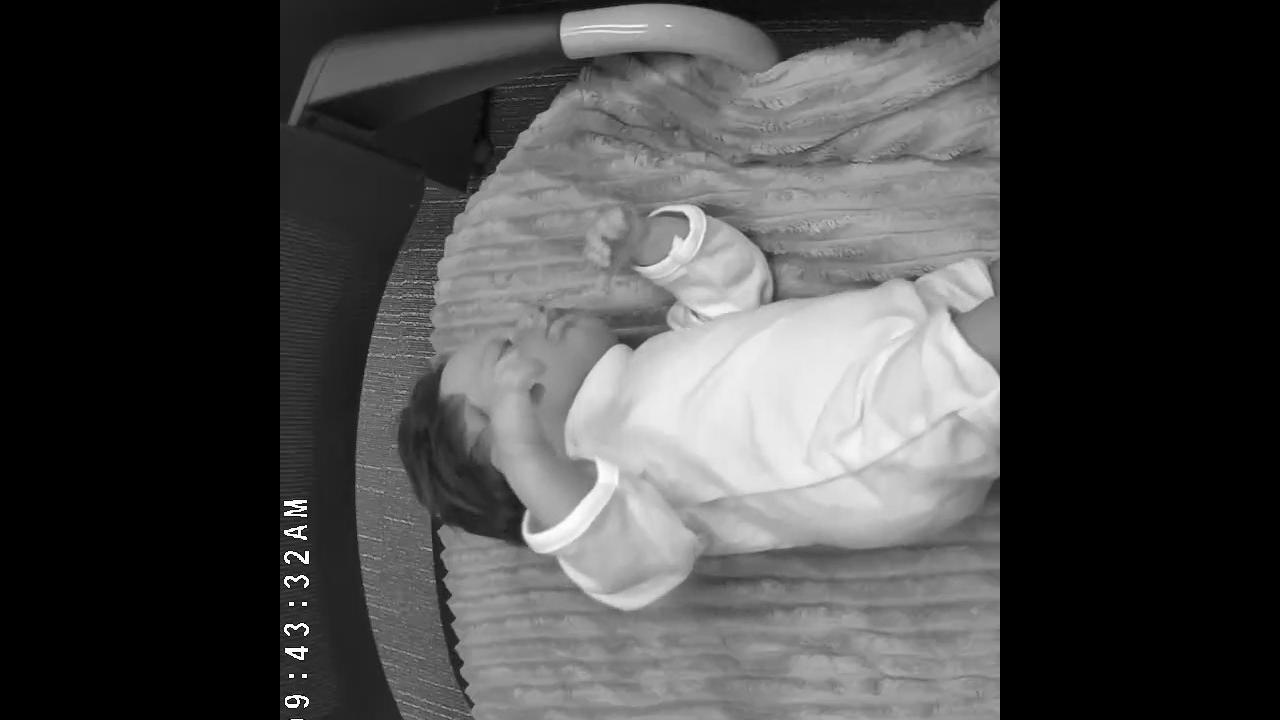hand: (583, 201, 645, 292), (490, 349, 549, 440)
